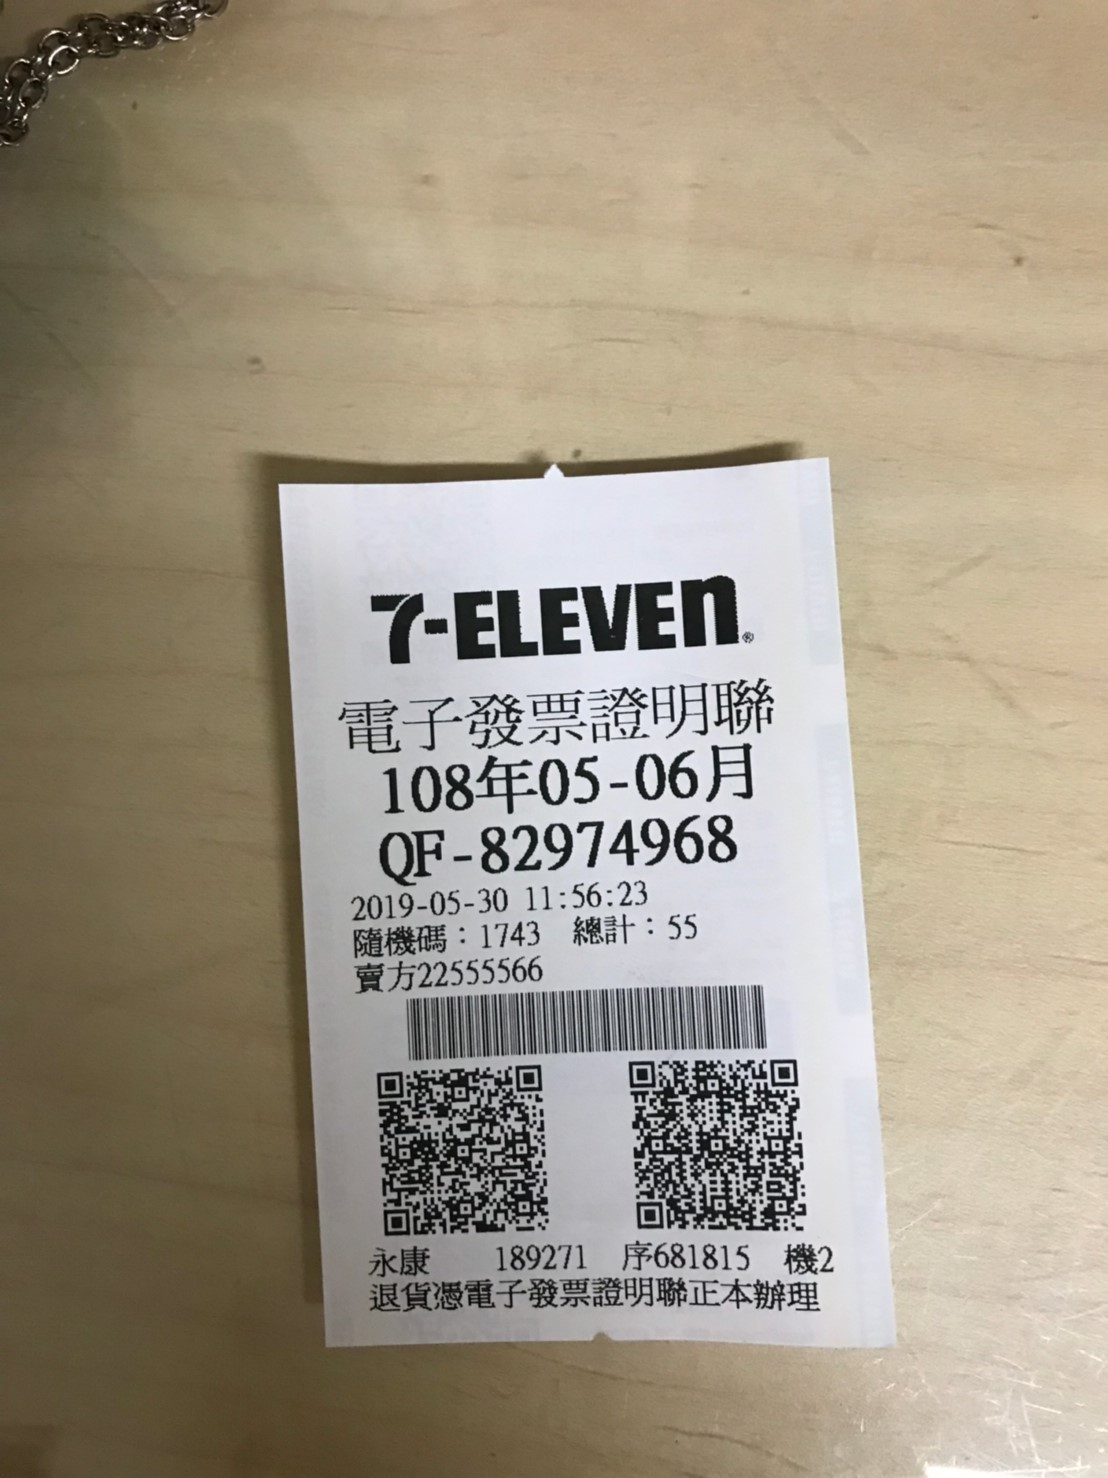Date_New: (381, 736, 759, 818)
Number_New: (480, 806, 743, 876)
